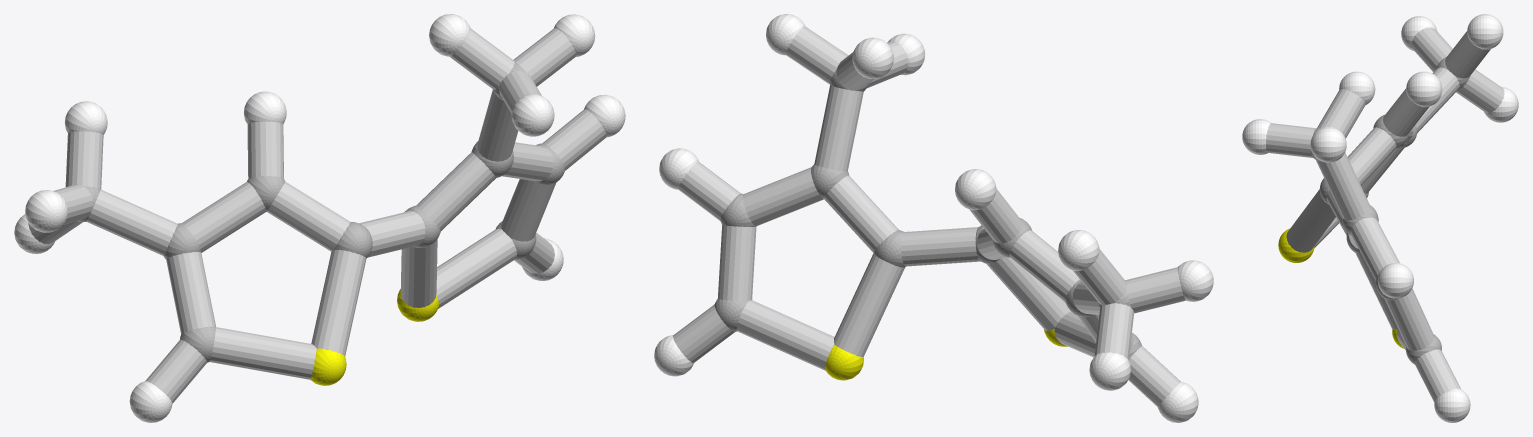
Rendered from Methylthiophene_Phi_40_Theta_240_Methylthiophene.glb.
3 views of the same model, side by side, from view 1: azimuth 30°, elevation 25°; view 2: azimuth 150°, elevation 25°; view 3: azimuth 270°, elevation 25° (orthographic). The views are drawn at different scales.
Visible parts, largest first — view 1: grp7965, grp3621, grp1, grp7241; view 2: grp7965, grp3621, grp1, grp7241; view 3: grp7965, grp3621, grp1, grp7241.
Boxes of the visible parts, x1=… form: grp7965: x1=28, y1=28, x2=606, y2=403; grp3621: x1=14, y1=14, x2=625, y2=422; grp1: x1=77, y1=62, x2=565, y2=362; grp7241: x1=310, y1=289, x2=438, y2=385; grp7965: x1=673, y1=26, x2=1185, y2=406; grp3621: x1=654, y1=14, x2=1213, y2=422; grp1: x1=714, y1=69, x2=1141, y2=359; grp7241: x1=825, y1=329, x2=1067, y2=380; grp7965: x1=1266, y1=27, x2=1504, y2=402; grp3621: x1=1242, y1=14, x2=1518, y2=422; grp1: x1=1311, y1=57, x2=1470, y2=364; grp7241: x1=1278, y1=228, x2=1403, y2=348.
Size of the model in its own units: 9.35 by 5.24 by 4.57.
